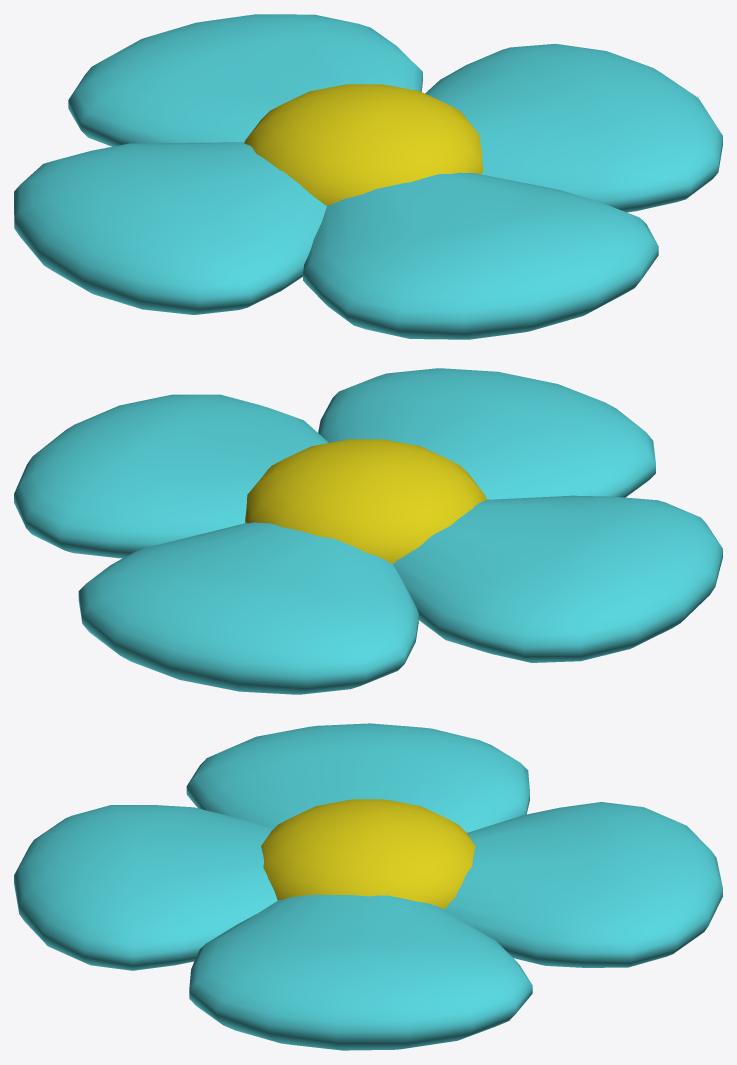
File: flower Blue.fbx
3 renders of one model, top to bottom at view 1: azimuth 30°, elevation 25°; view 2: azimuth 150°, elevation 25°; view 3: azimuth 270°, elevation 25°, orthographic. The views are drawn at different scales.
Parts seen in each view (by area): view 1: pSphere17; view 2: pSphere17; view 3: pSphere17.
Boxes of the visible parts, left/top/right/bottom form: pSphere17: left=14, top=14, right=722, bottom=339; pSphere17: left=14, top=368, right=722, bottom=694; pSphere17: left=14, top=723, right=722, bottom=1050.
Size of the model in its own units: 3.35 by 0.5053 by 3.35.
